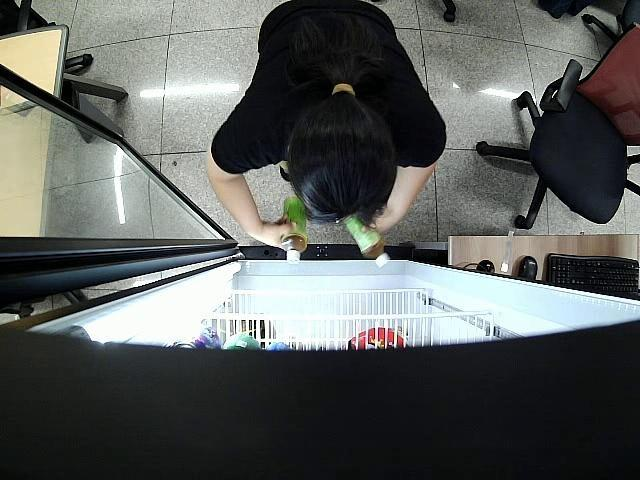19_17cha: (338, 214, 388, 269), (282, 194, 308, 264)
